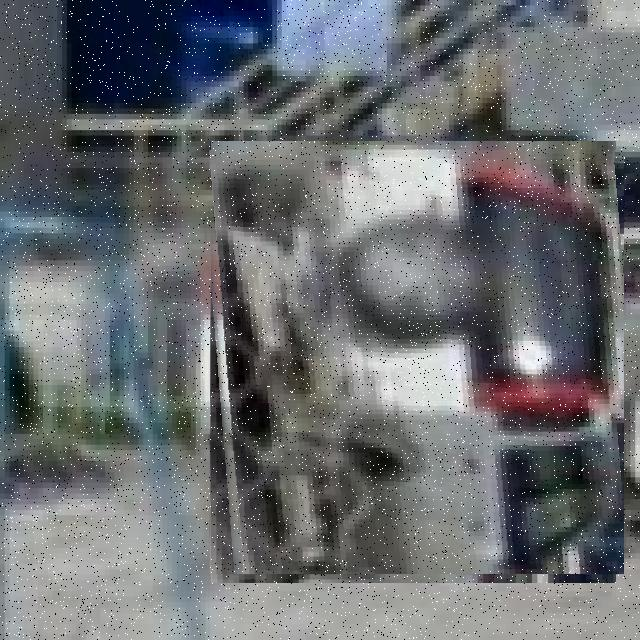car: (203, 151, 627, 575)
